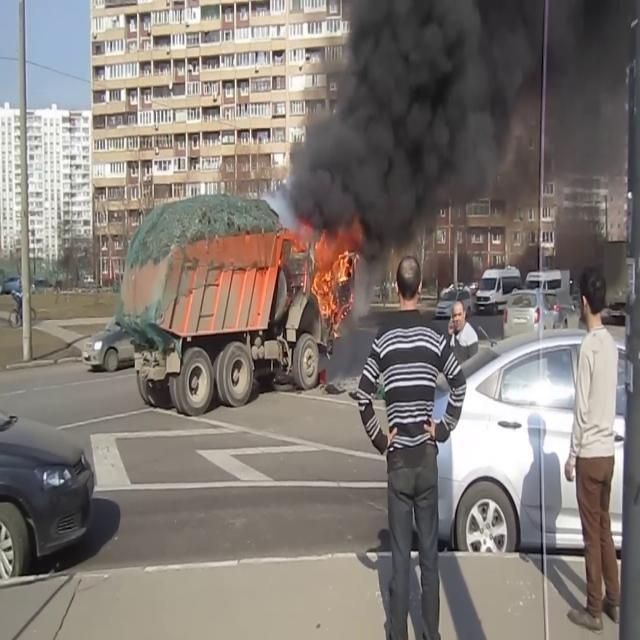Fire: (308, 229, 359, 327)
Smoke: (280, 0, 640, 247)
